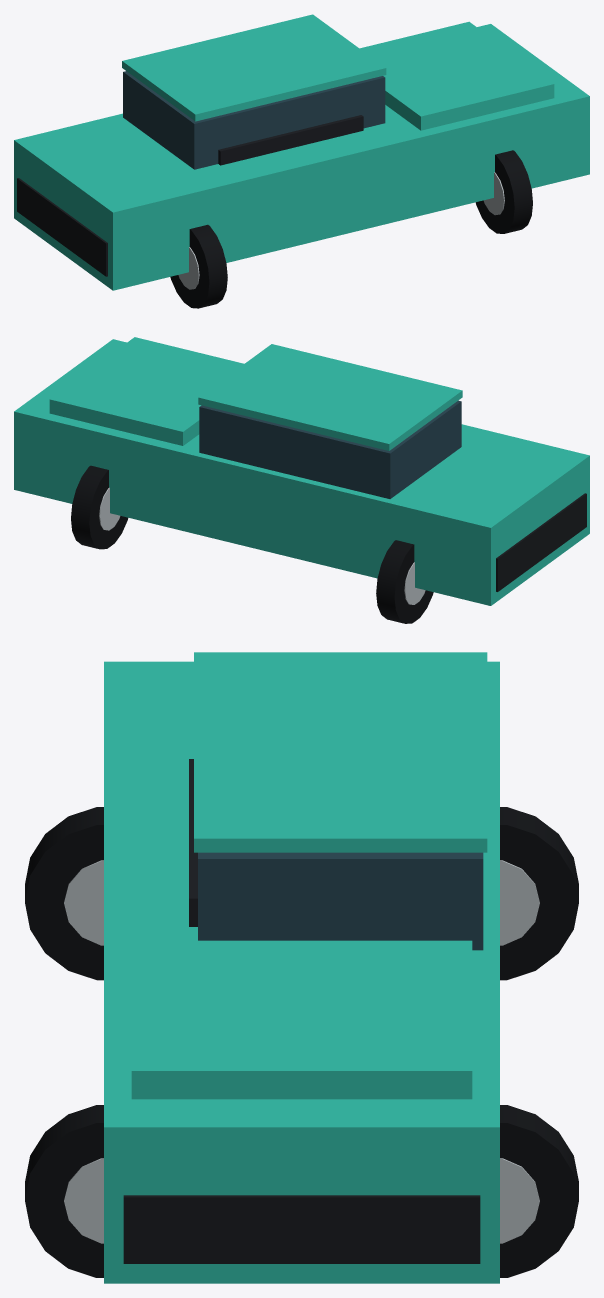
File: ford_f_150_raptor.glb
3 views of the same model, one above another, from view 1: azimuth 30°, elevation 25°; view 2: azimuth 150°, elevation 25°; view 3: azimuth 270°, elevation 25° (orthographic). The views are drawn at different scales.
Visible parts, largest first — view 1: body, roof, hood, cabin, rear_bumper, rear_right_wheel, front_right_wheel, interior; view 2: body, roof, cabin, hood, rear_bumper, rear_left_wheel, front_left_wheel; view 3: body, roof, hood, cabin, front_bumper, rear_left_wheel, rear_right_wheel, front_left_wheel, front_right_wheel, interior.
Boxes of the visible parts, <box> form: body: <box>14,24,589,290</box>; roof: <box>122,14,386,121</box>; hood: <box>360,21,554,130</box>; cabin: <box>123,71,385,169</box>; rear_bumper: <box>17,178,107,276</box>; rear_right_wheel: <box>170,224,227,308</box>; front_right_wheel: <box>475,150,532,233</box>; interior: <box>218,115,363,165</box>; body: <box>14,339,589,605</box>; roof: <box>198,344,462,450</box>; cabin: <box>199,400,461,498</box>; hood: <box>49,337,244,445</box>; rear_bumper: <box>496,493,586,591</box>; rear_left_wheel: <box>376,540,433,623</box>; front_left_wheel: <box>71,465,128,549</box>; body: <box>104,661,499,1283</box>; roof: <box>194,652,487,852</box>; hood: <box>131,940,472,1099</box>; cabin: <box>198,852,483,950</box>; front_bumper: <box>123,1195,480,1263</box>; rear_left_wheel: <box>500,807,578,980</box>; rear_right_wheel: <box>25,807,103,980</box>; front_left_wheel: <box>500,1105,578,1277</box>; front_right_wheel: <box>25,1105,103,1277</box>; interior: <box>189,759,197,926</box>.
Bounding box in the file's own units: 5.75 × 1.93 × 2.87.
